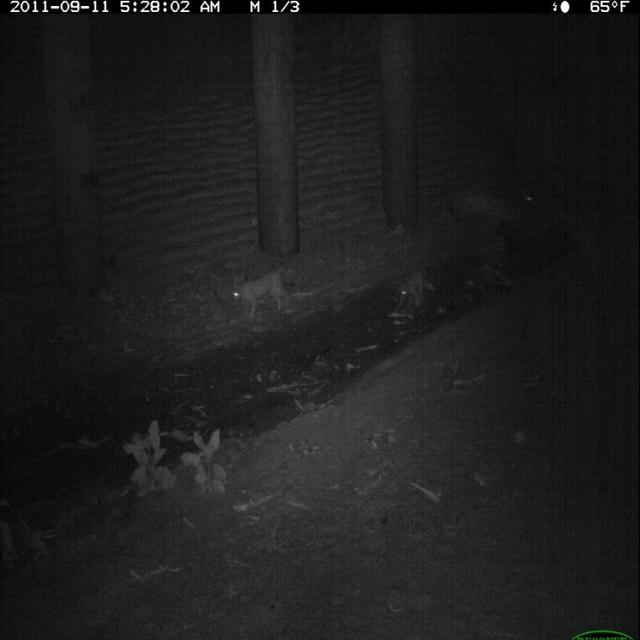bobcat: (228, 255, 296, 329), (520, 182, 570, 228), (397, 263, 433, 318)
